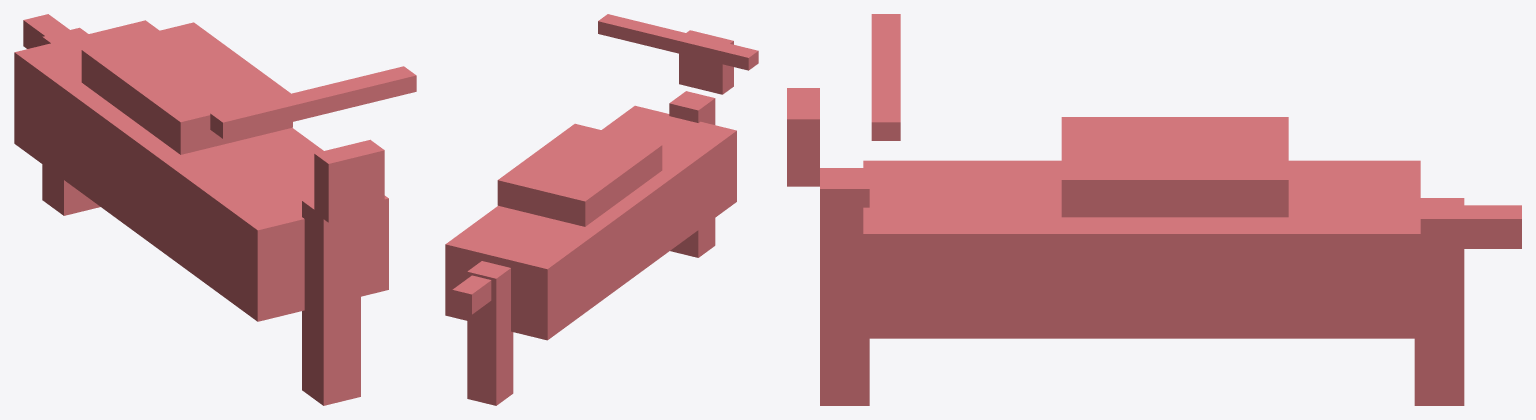
File: wave.gltf
3 views of the same model, side by side, from view 1: azimuth 30°, elevation 25°; view 2: azimuth 150°, elevation 25°; view 3: azimuth 270°, elevation 25° (orthographic). The views are drawn at different scales.
Visible parts, largest first — view 1: gltf-hero; view 2: gltf-hero; view 3: gltf-hero.
Boxes of the visible parts, box(x1,y1,x2,y2) form: gltf-hero: box(14, 14, 416, 405); gltf-hero: box(445, 14, 758, 405); gltf-hero: box(787, 14, 1521, 405).
Size of the model in its own units: 0.62 by 0.875 by 1.78.
